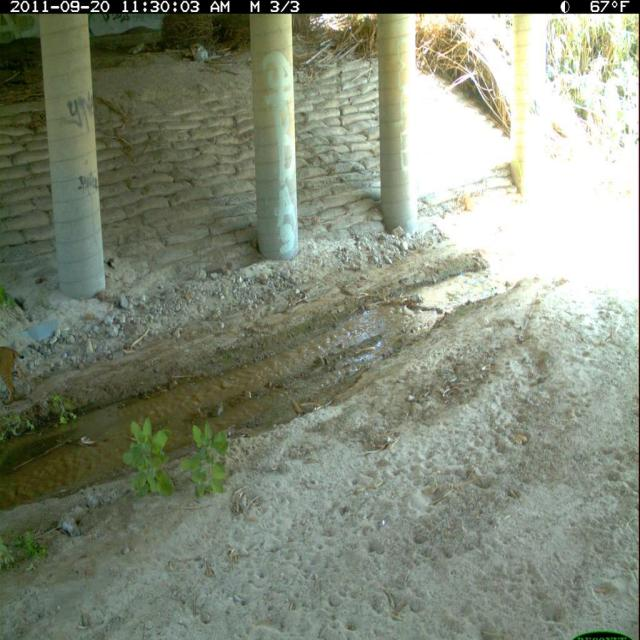bobcat: (1, 342, 37, 411)
